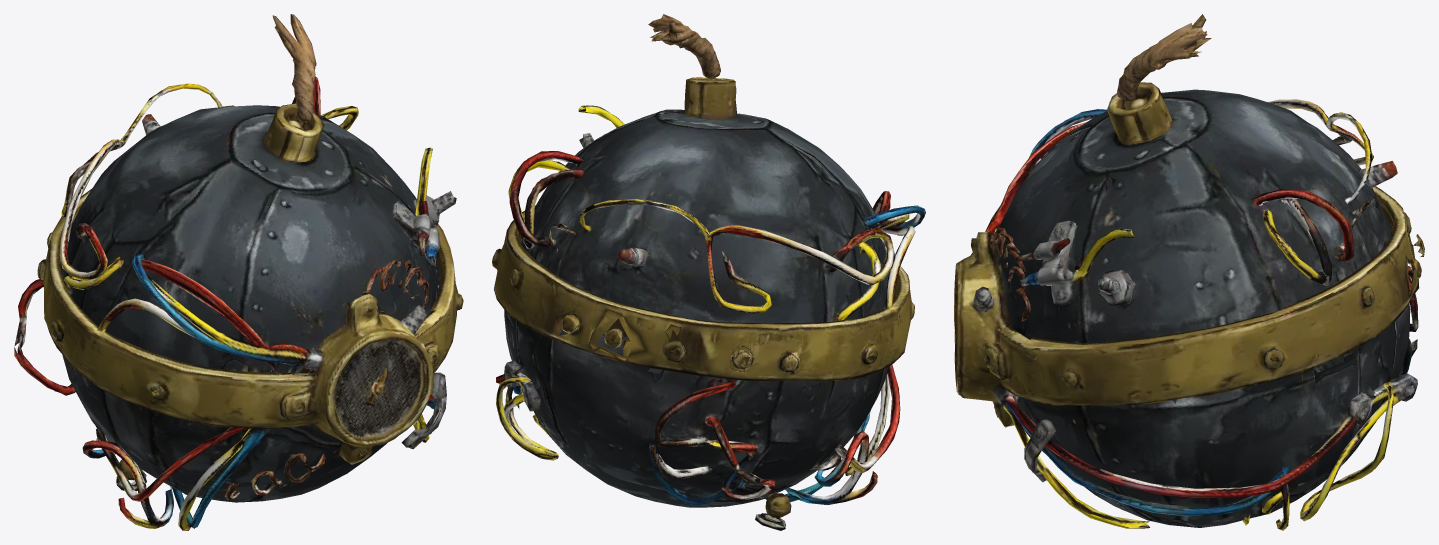
File: bomb.glb
3 views of the same model, side by side, from view 1: azimuth 30°, elevation 25°; view 2: azimuth 150°, elevation 25°; view 3: azimuth 270°, elevation 25° (orthographic). The views are drawn at different scales.
Visible parts, largest first — view 1: geometry_0; view 2: geometry_0; view 3: geometry_0.
Boxes of the visible parts, box(x1,y1,x2,y2) form: geometry_0: box(14, 14, 463, 530); geometry_0: box(492, 14, 925, 530); geometry_0: box(954, 14, 1424, 530).
Bounding box in the file's own units: 0.7499 × 0.9137 × 0.7712.
Materials: 1 (1 with a texture image).
